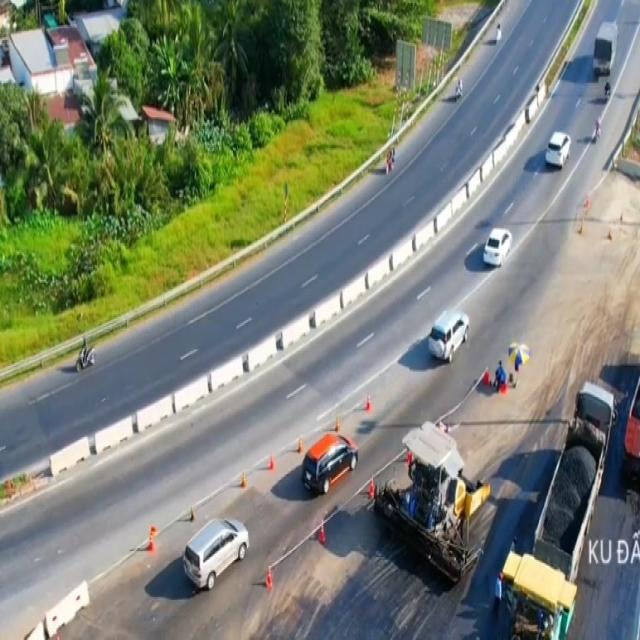car: (178, 514, 248, 598), (299, 428, 360, 497), (424, 307, 470, 362), (483, 228, 514, 271), (546, 128, 571, 172)
motorbike: (72, 336, 95, 371)
truck: (594, 22, 618, 76)
